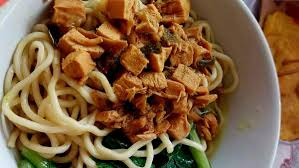Mie ayam: (4, 3, 241, 168)
